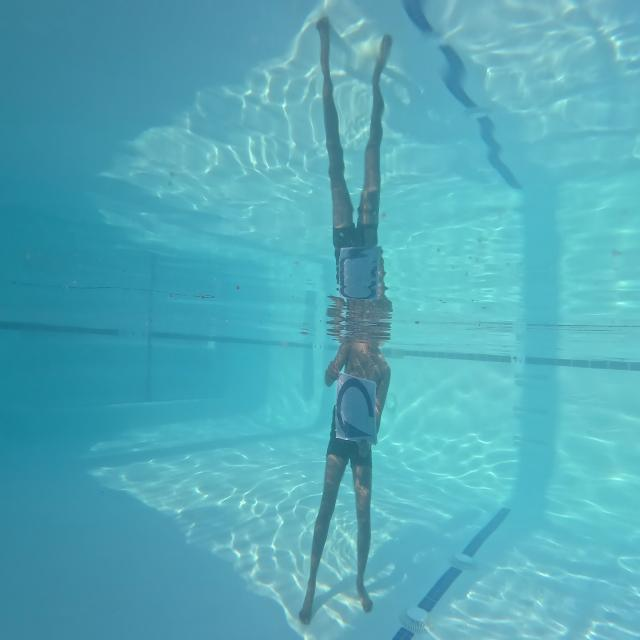blue_side: (336, 374, 377, 447)
